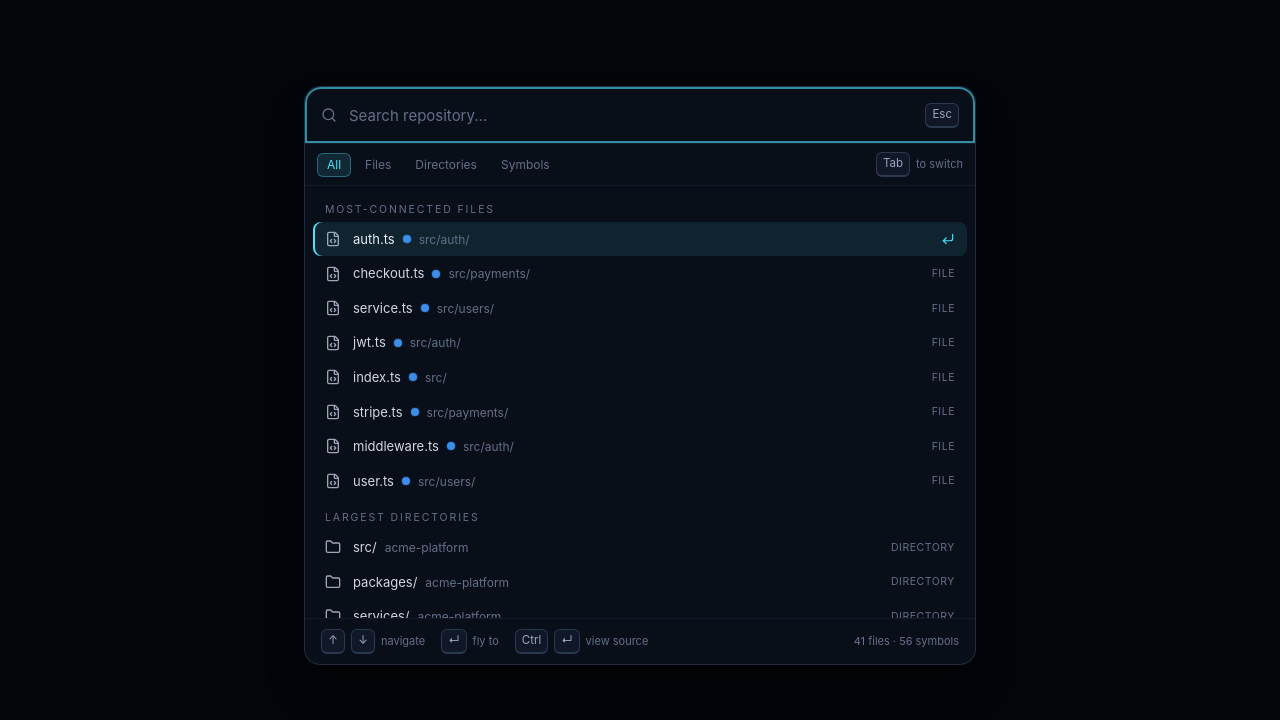
Test: SearchPalette hidden characters › shows bidi controls in result names as visible markers, even inside matched runs
This screenshot has width=1280, height=720.
Type "invoice" into the dropdown at x=631, y=115, box [349,87,913,143]
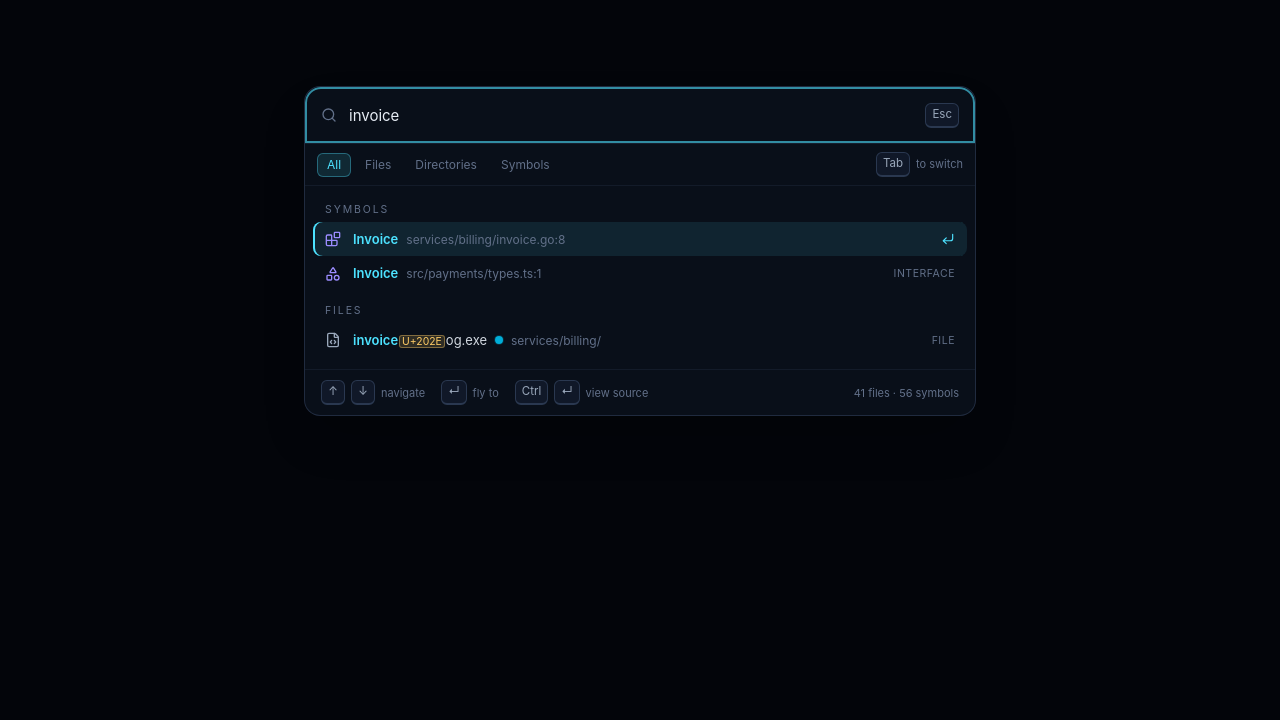
Result: the option "invoiceU+202Eog.exe services/billing/ File" is shown at [313,323,967,358]
Result: the text "U+202E" is shown at [399,335,445,348]
